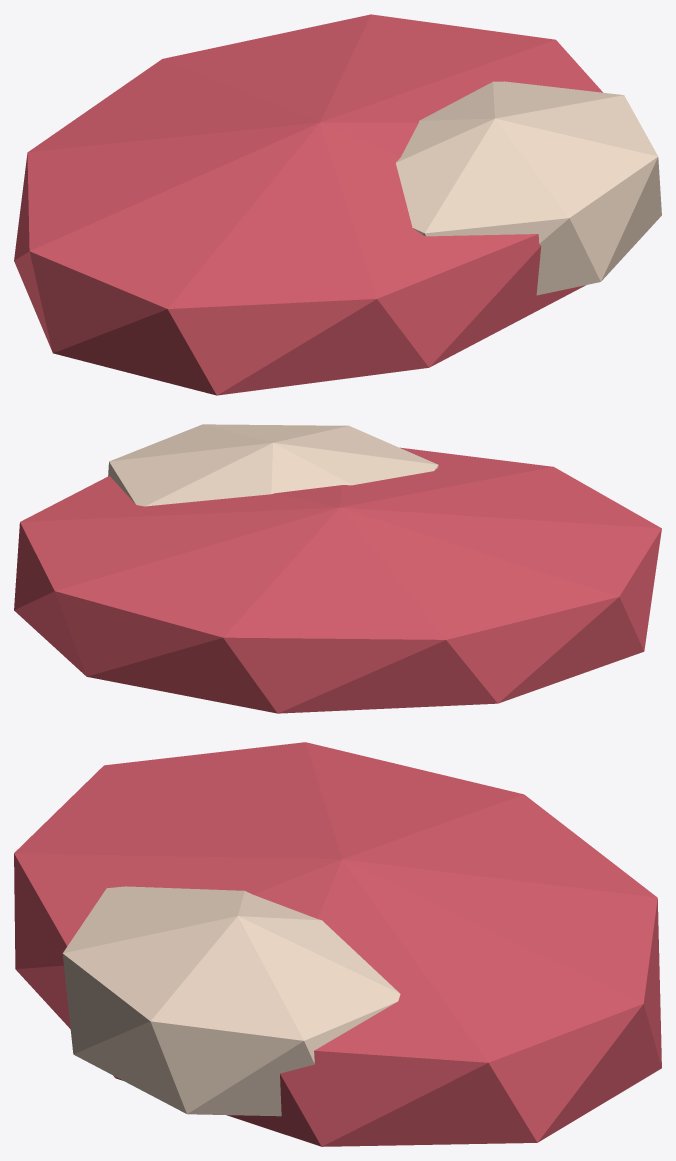
Rendered from drop_steak_raw.glb.
The picture shows the model from 3 angles, top to bottom: view 1: azimuth 30°, elevation 25°; view 2: azimuth 150°, elevation 25°; view 3: azimuth 270°, elevation 25°; orthographic projection. The views are drawn at different scales.
Visible parts, largest first — view 1: drop_steak_raw; view 2: drop_steak_raw; view 3: drop_steak_raw.
Boxes of the visible parts, box(x1,y1,x2,y2) form: drop_steak_raw: box(14, 14, 661, 395); drop_steak_raw: box(14, 424, 661, 713); drop_steak_raw: box(14, 742, 661, 1146).
Bounding box in the file's own units: 0.2189 × 0.059 × 0.186.
